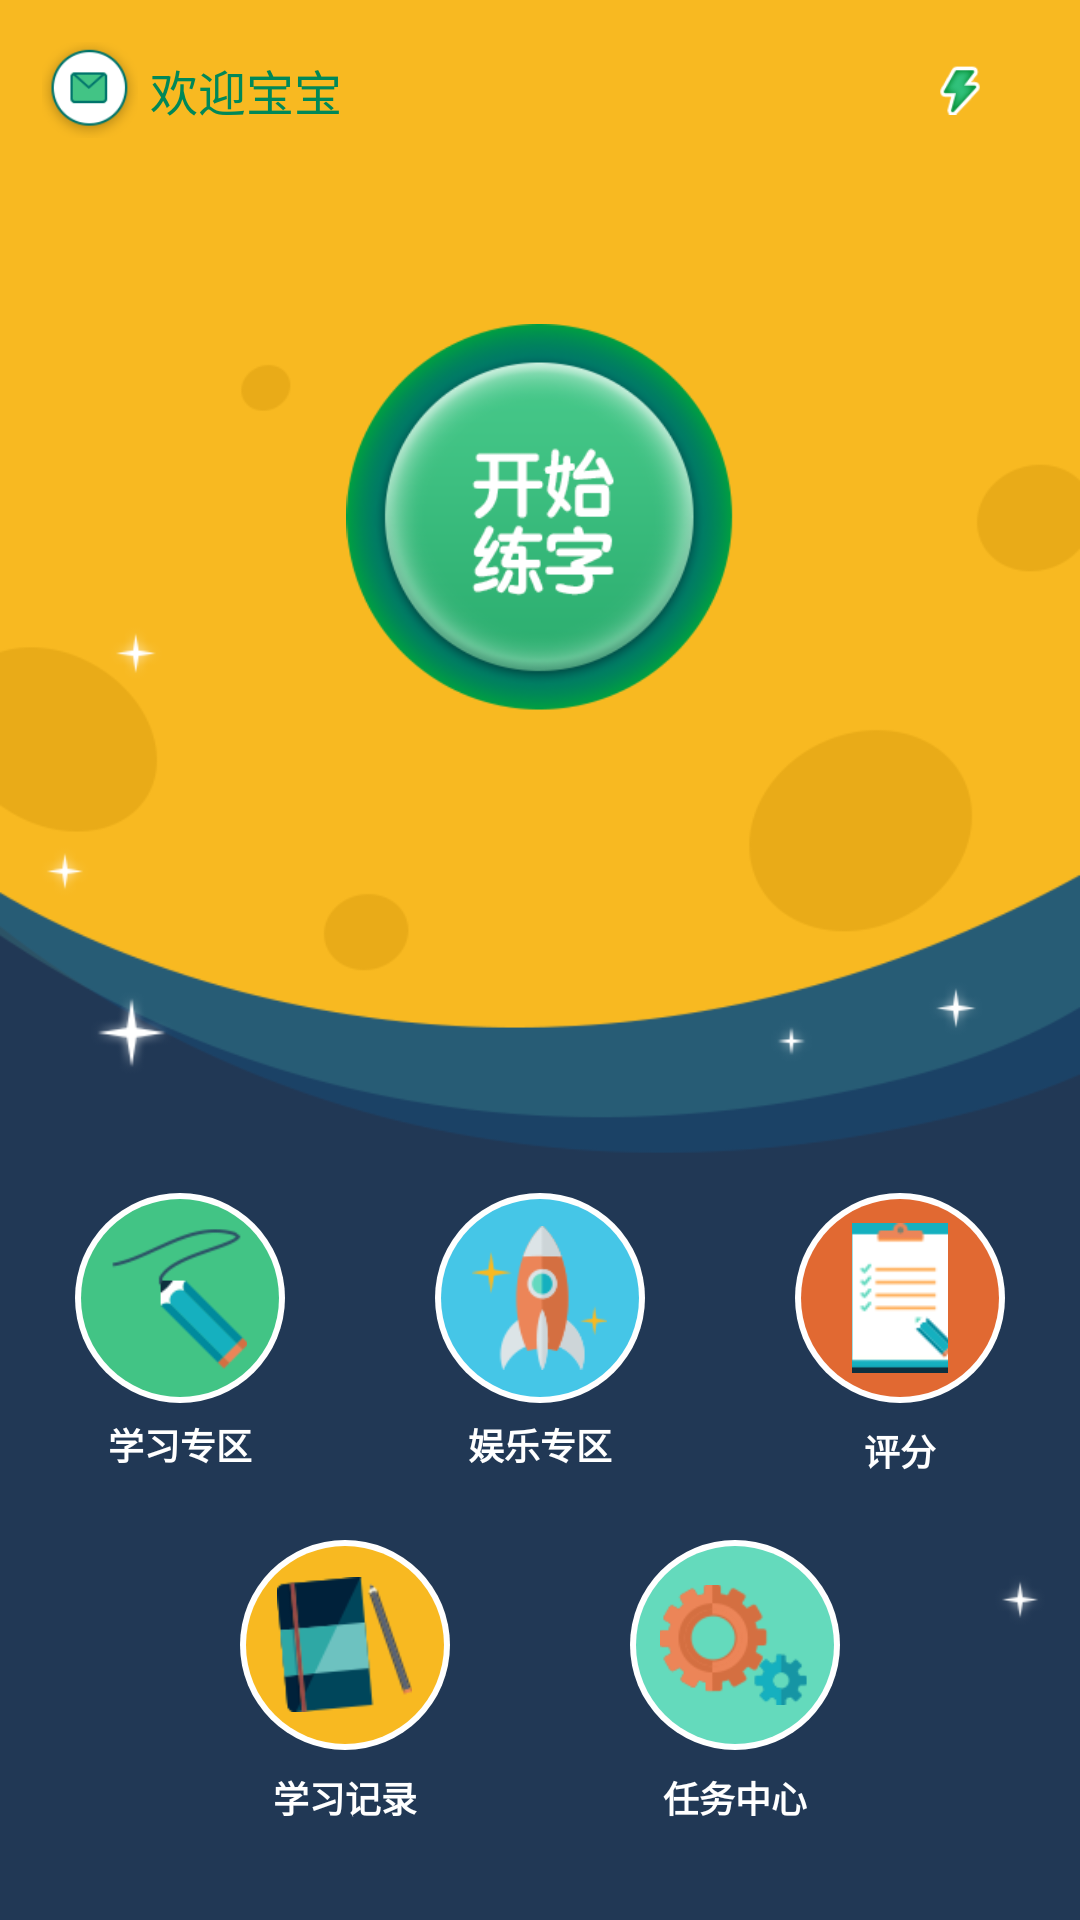

Locate icon controls on the screen. Image size 1080w x 1920h, boxes as [x1=x1, y1=y1, x2=x2, y2=y2].
email: [x1=49, y1=49, x2=130, y2=130]
score: [x1=852, y1=1223, x2=948, y2=1373]
study area: [x1=112, y1=1229, x2=247, y2=1369]
study history: [x1=277, y1=1577, x2=412, y2=1712]
